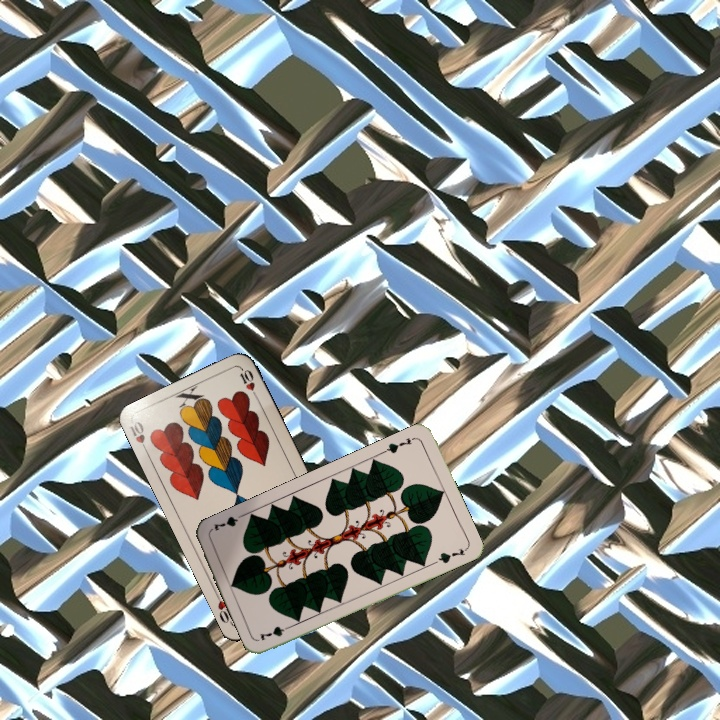G7: (255, 621, 296, 643), (379, 433, 418, 456)
H10: (125, 417, 151, 457)
